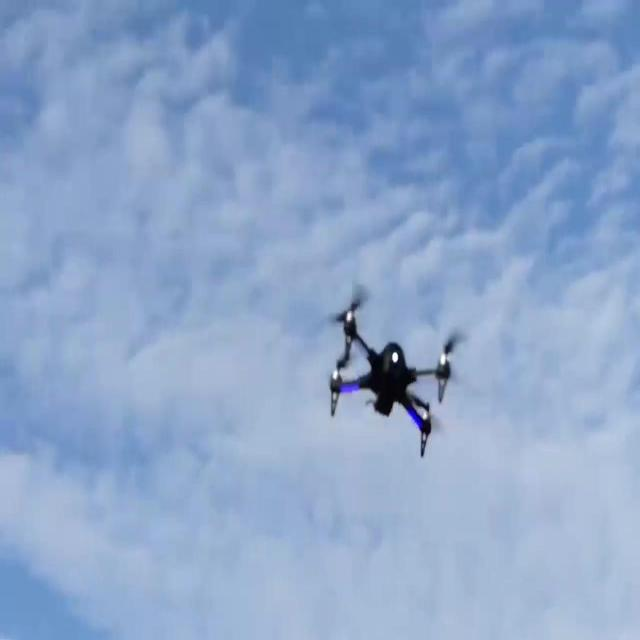drone: (325, 280, 455, 460)
